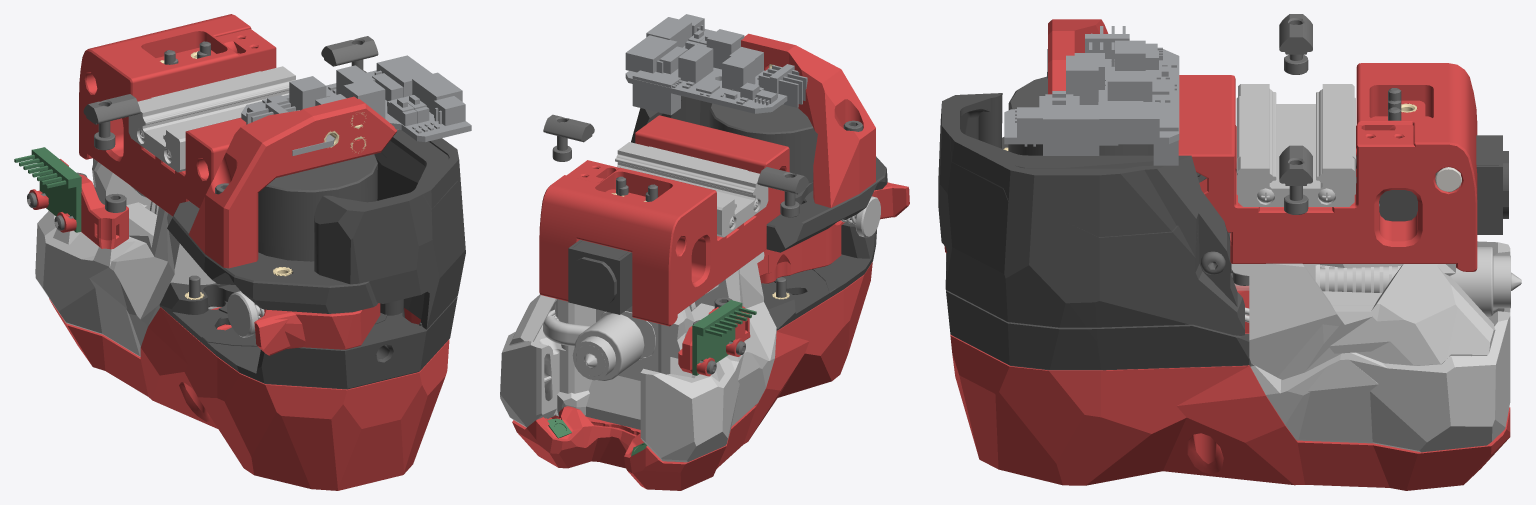
Rendered from carriage.glb.
The picture shows the model from 3 angles, left to right: view 1: azimuth 30°, elevation 25°; view 2: azimuth 150°, elevation 25°; view 3: azimuth 270°, elevation 25°; orthographic projection. The views are drawn at different scales.
Bounding box in the file's own units: 83 × 99.9 × 132.
